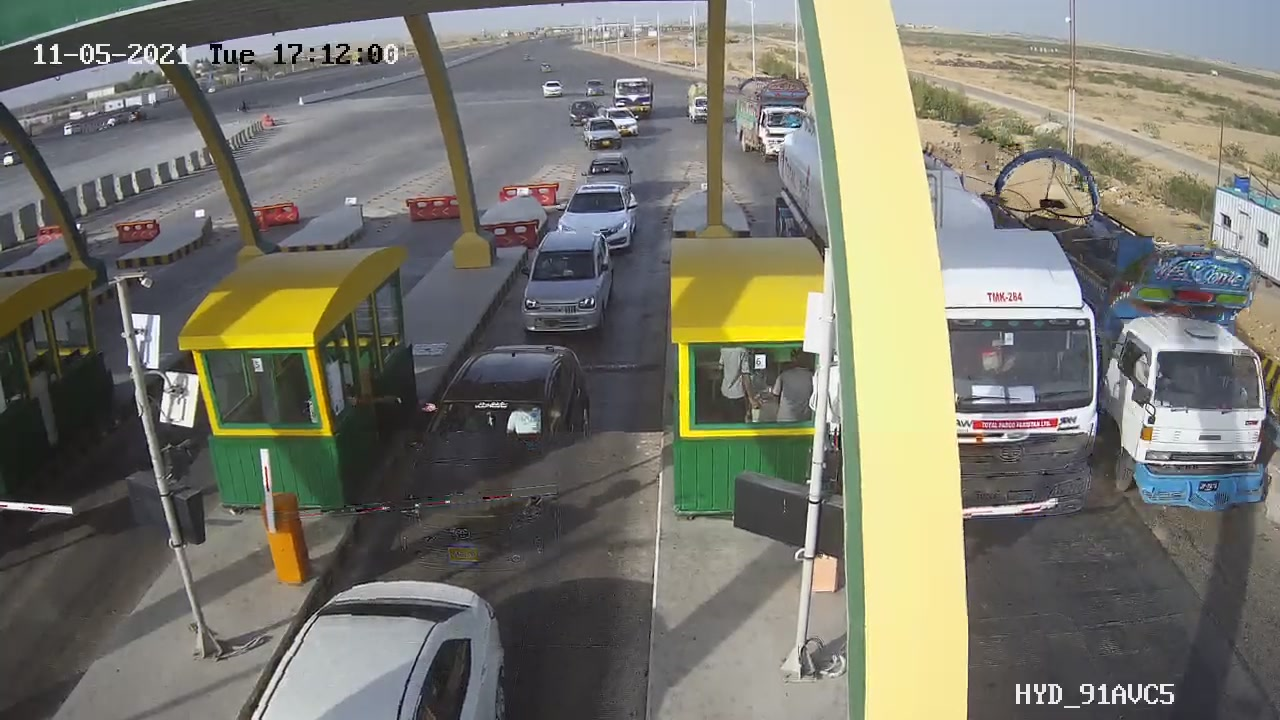F1: (500, 217, 639, 349)
